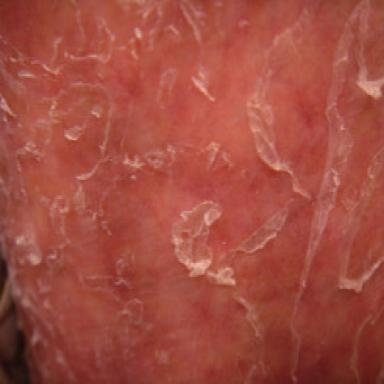eczema: (0, 1, 384, 382)
